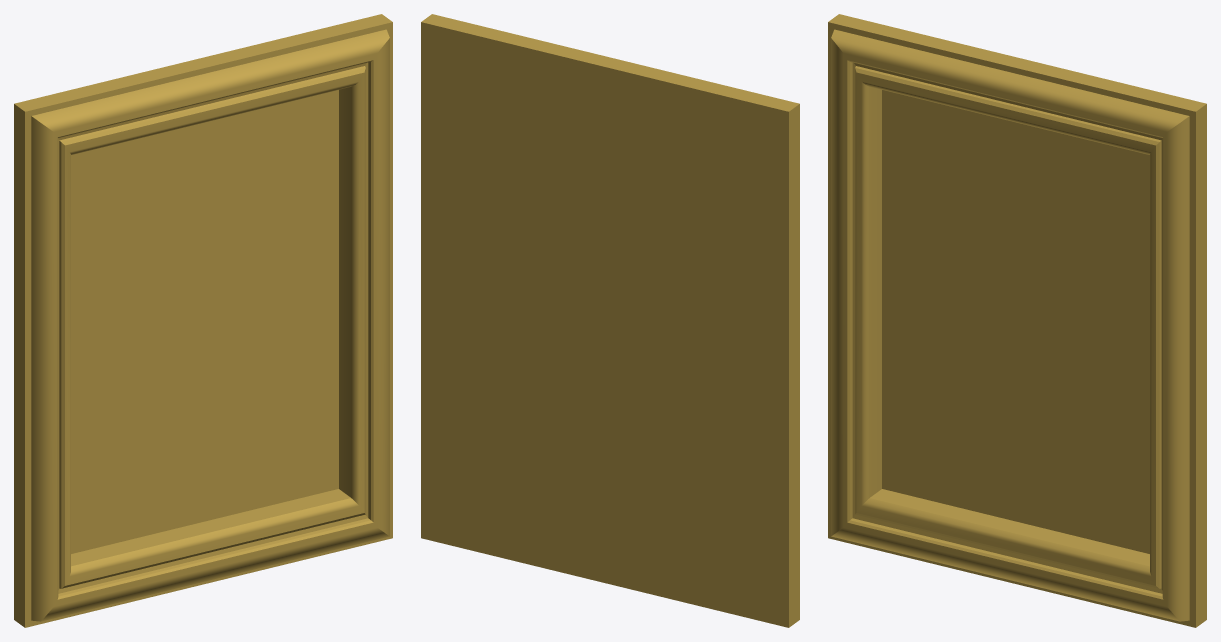
Rendered from wooden picture frame.fbx.
3 views of the same model, side by side, from view 1: azimuth 30°, elevation 25°; view 2: azimuth 150°, elevation 25°; view 3: azimuth 330°, elevation 25° (orthographic).
Visible parts, largest first — view 1: pPlane2; view 2: pPlane2; view 3: pPlane2.
Part boxes in pixels (bbox=[...]): pPlane2: bbox=[14, 14, 392, 627]; pPlane2: bbox=[421, 14, 799, 627]; pPlane2: bbox=[828, 14, 1206, 627].
Bounding box in the file's own units: 108 × 145 × 9.02.
